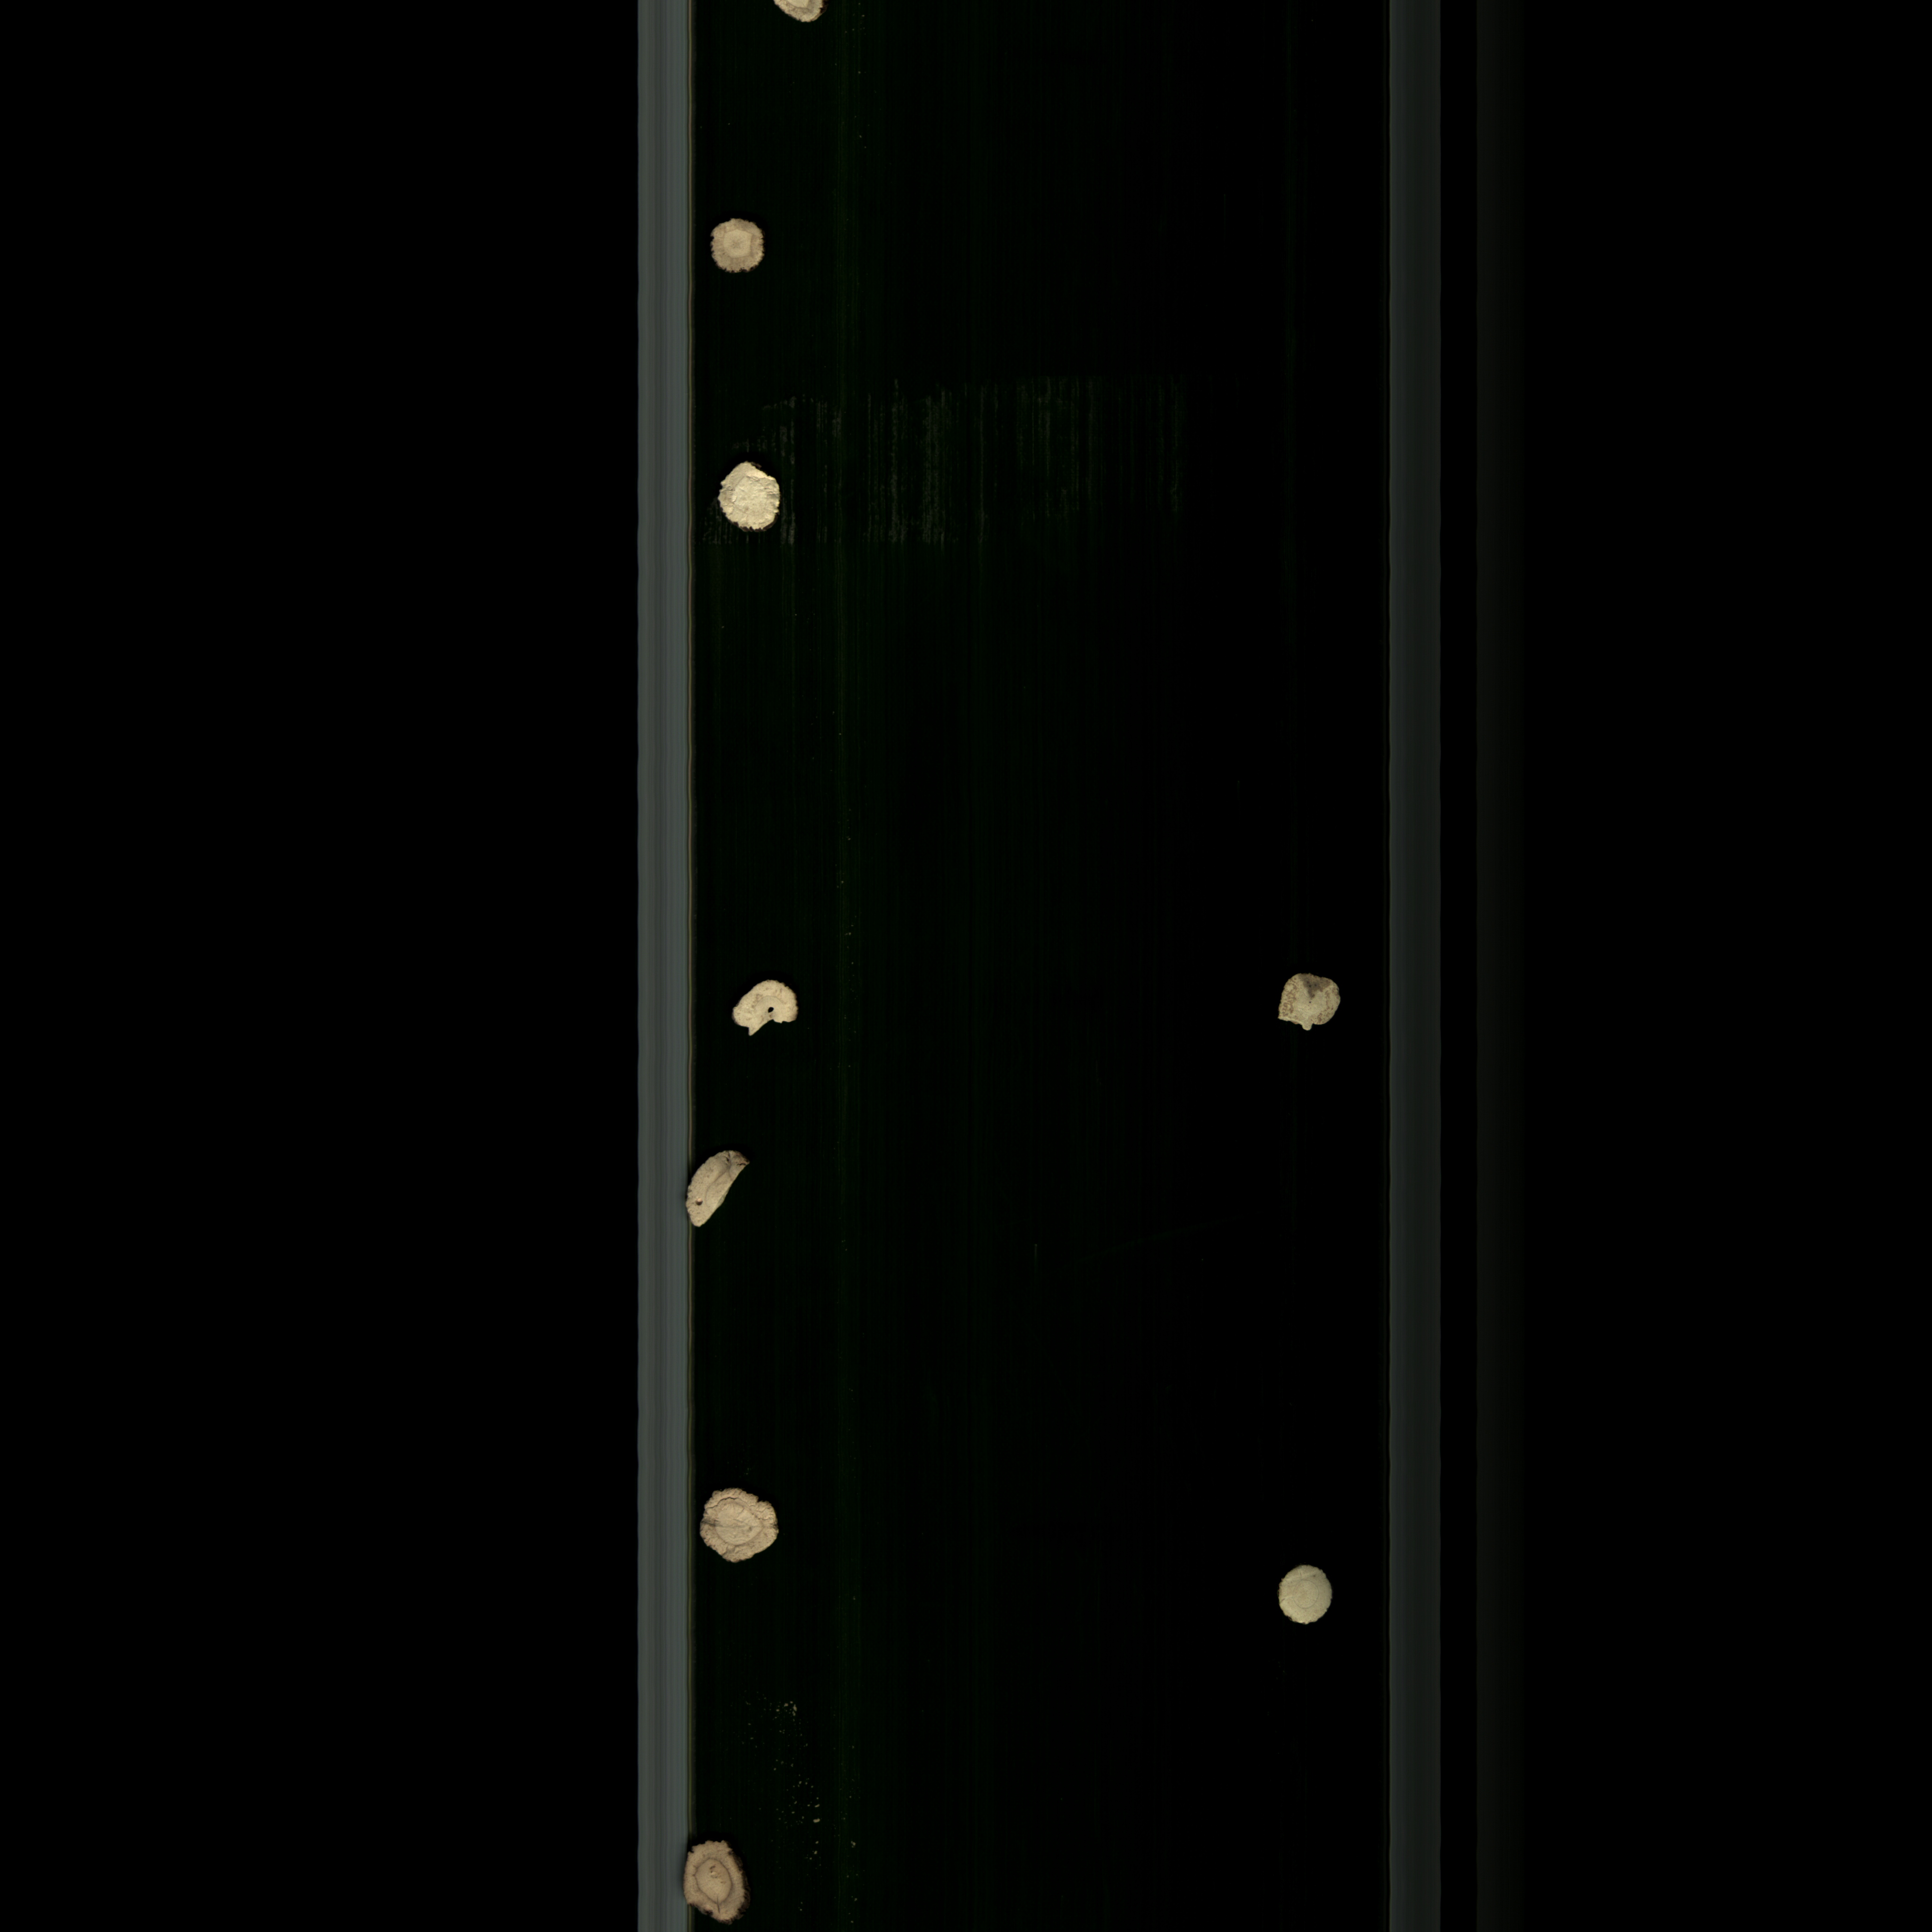debris: (674, 1143, 761, 1235), (725, 977, 812, 1040), (1279, 966, 1346, 1042)
distortion: (709, 458, 798, 538)
moldy: (694, 1483, 787, 1571), (678, 1831, 759, 1930), (704, 214, 775, 280)
